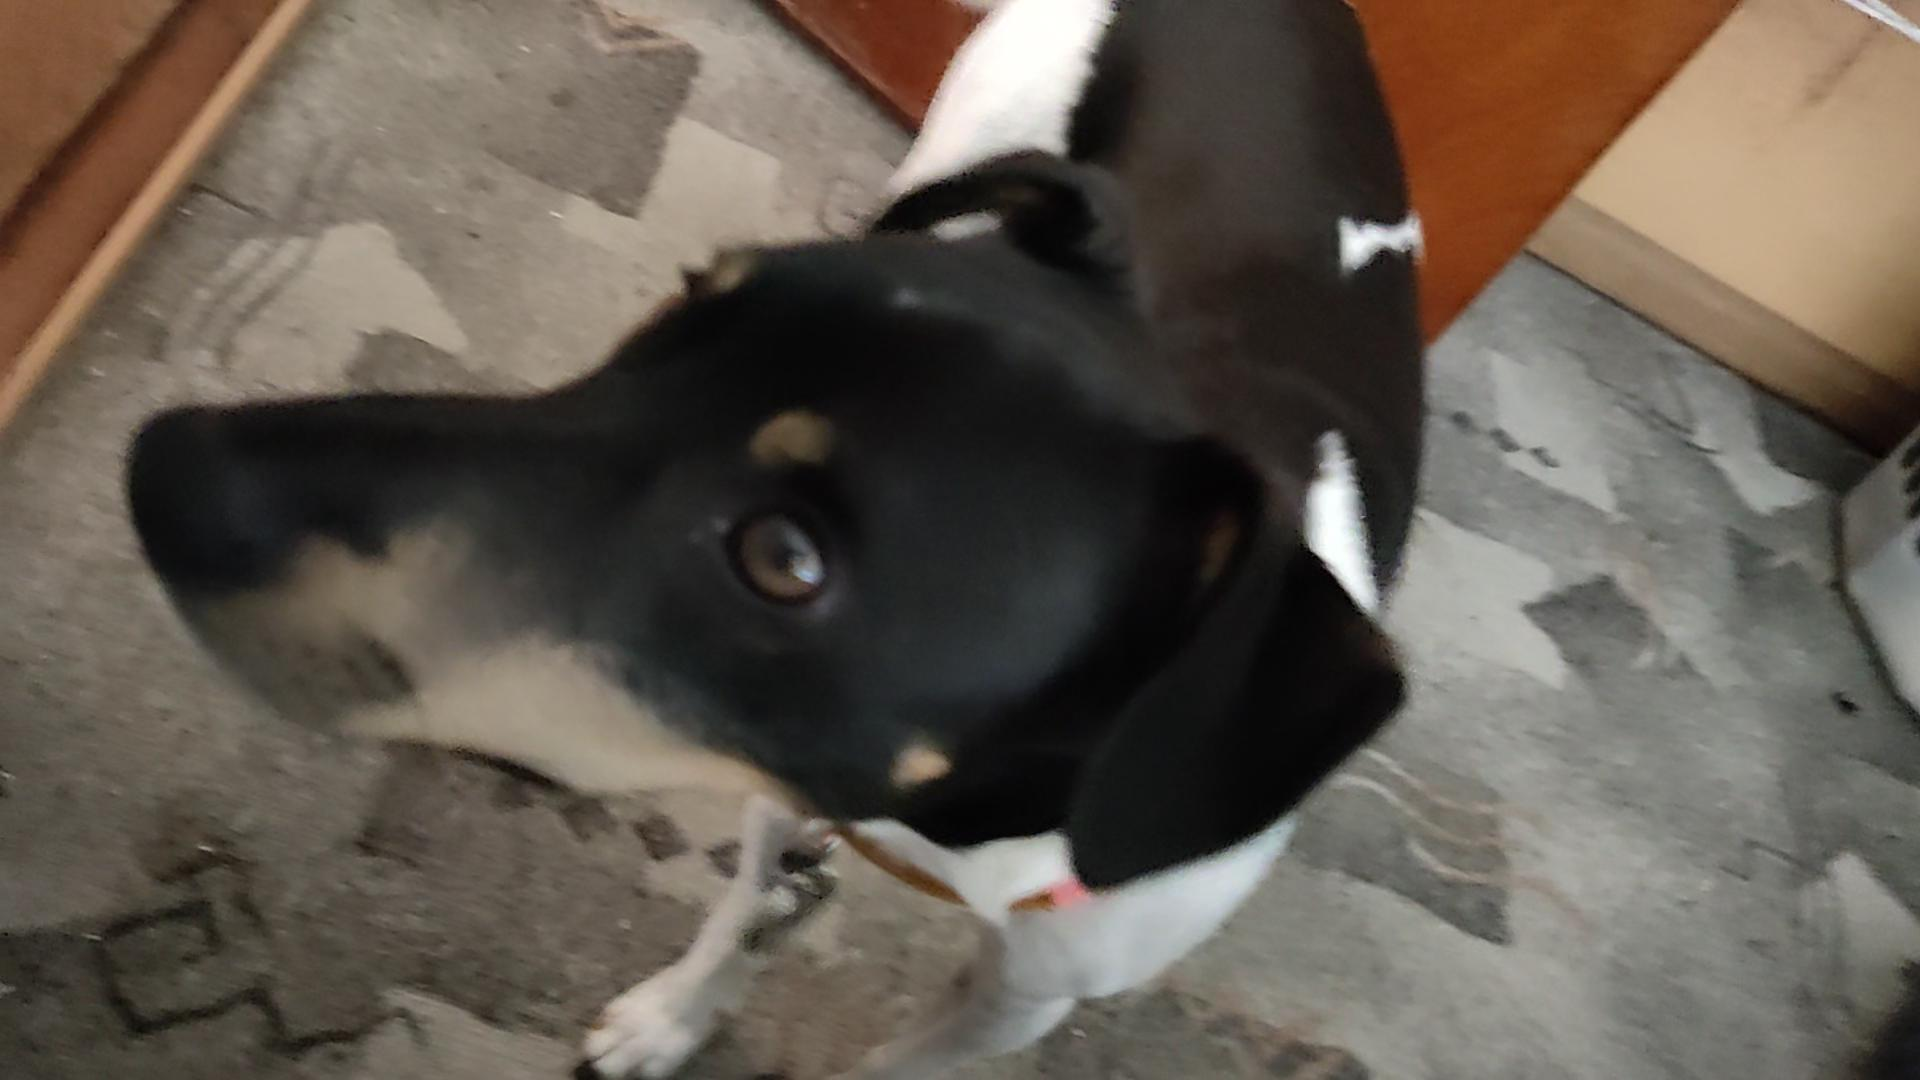Dog: (120, 0, 1437, 1080)
